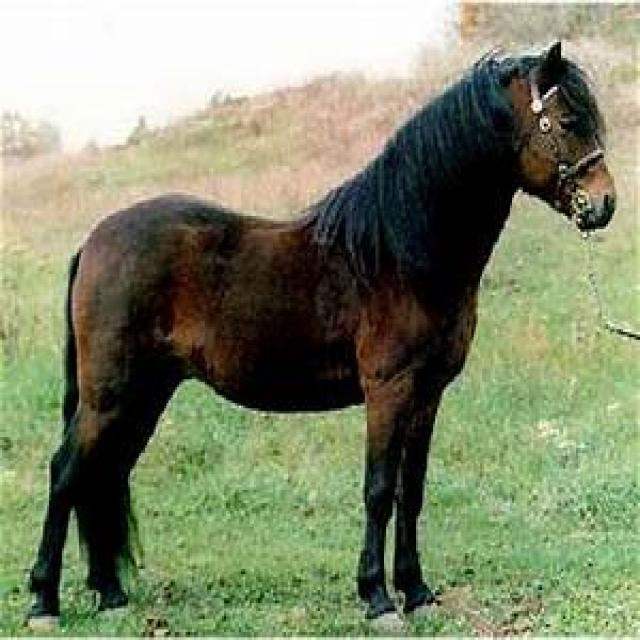horse: (21, 37, 616, 629)
